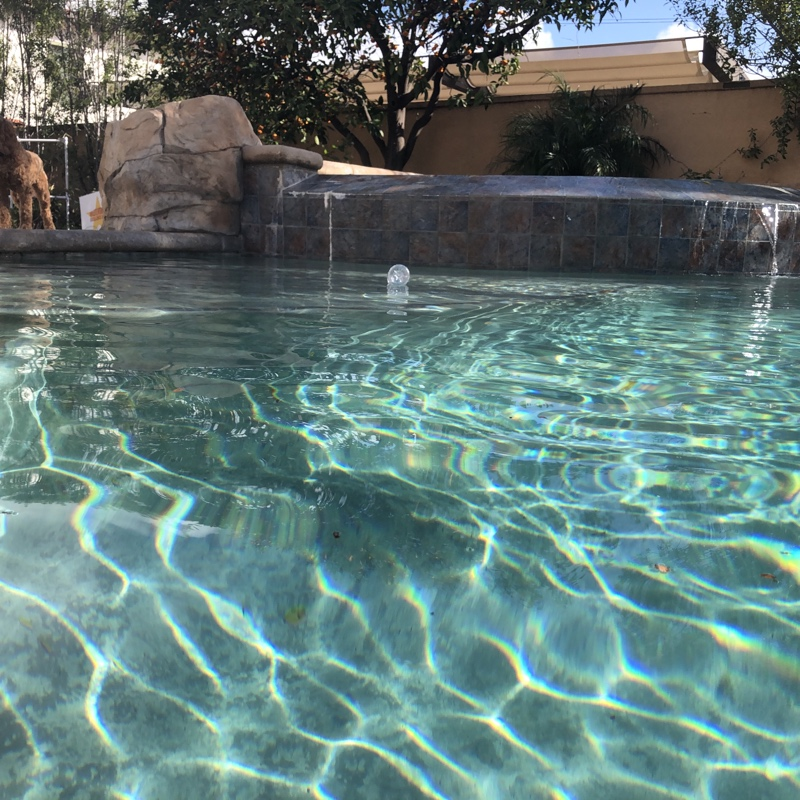Plastic Bottle: (381, 265, 414, 289)
